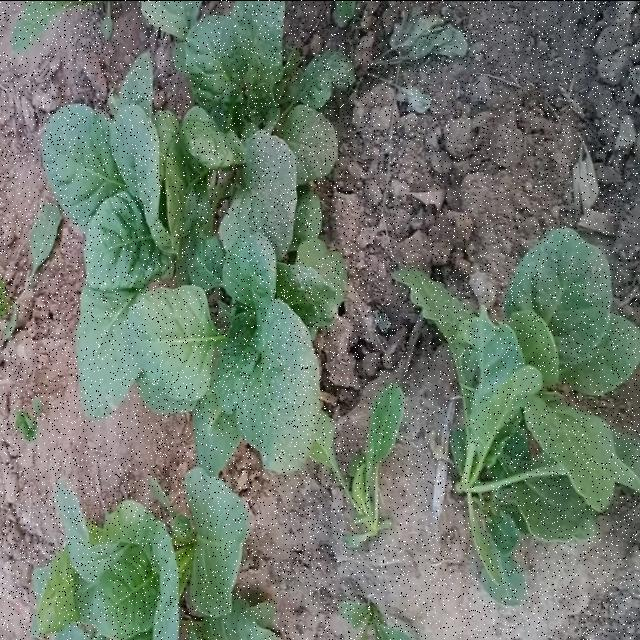plant: (34, 1, 404, 640), (396, 228, 640, 603)
